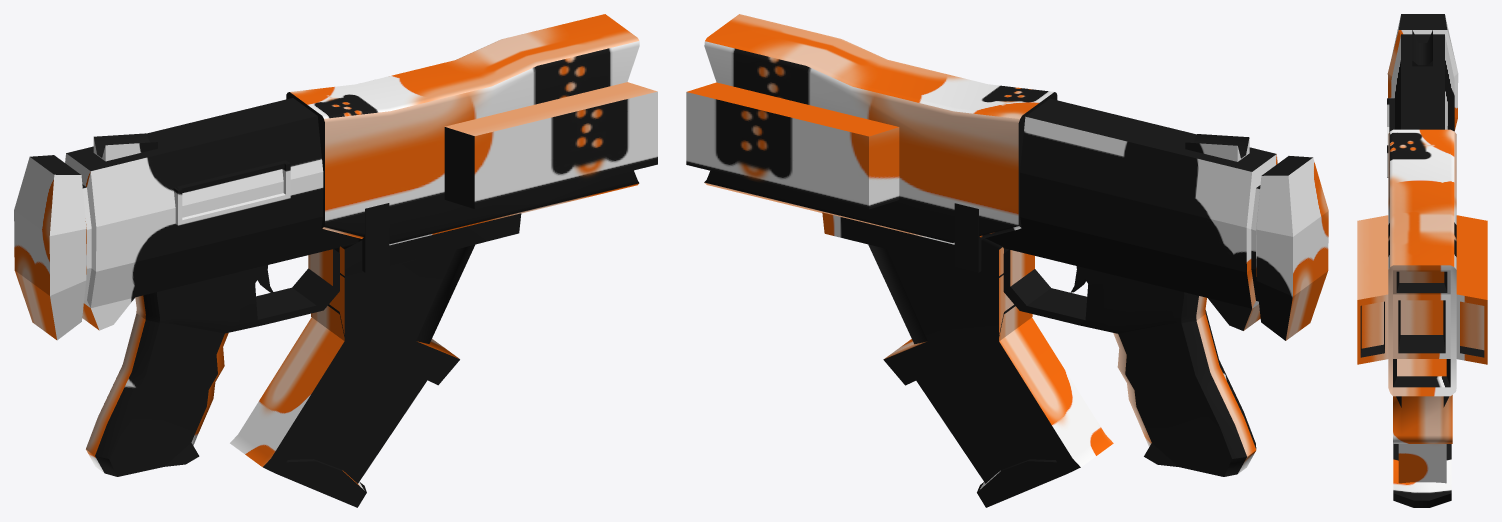
The model's file is Shotgun.fbx.
3 views of the same model, side by side, from view 1: azimuth 30°, elevation 25°; view 2: azimuth 150°, elevation 25°; view 3: azimuth 270°, elevation 25° (orthographic). The views are drawn at different scales.
Visible parts, largest first — view 1: polySurface45; view 2: polySurface45; view 3: polySurface45.
Part boxes in pixels (<box>): polySurface45: <box>14,14,657,507</box>; polySurface45: <box>686,14,1328,507</box>; polySurface45: <box>1357,14,1487,507</box>.
Size of the model in its own units: 16.51 by 11.18 by 3.56.
